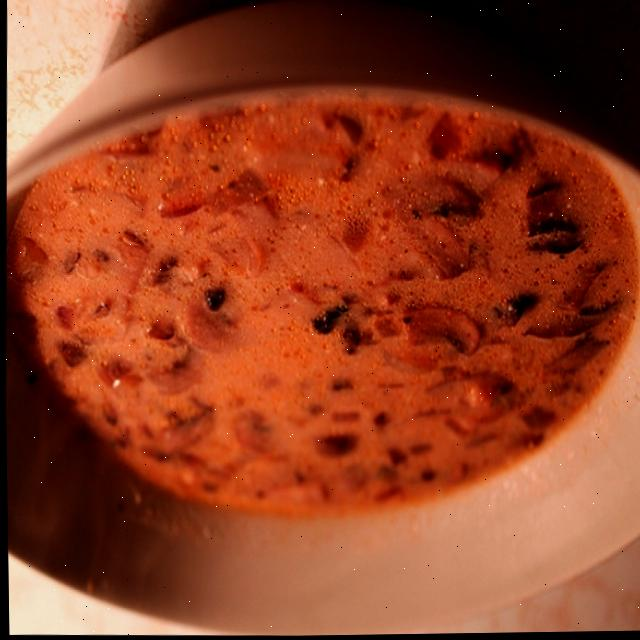汤锅炖物: (1, 63, 629, 570)
